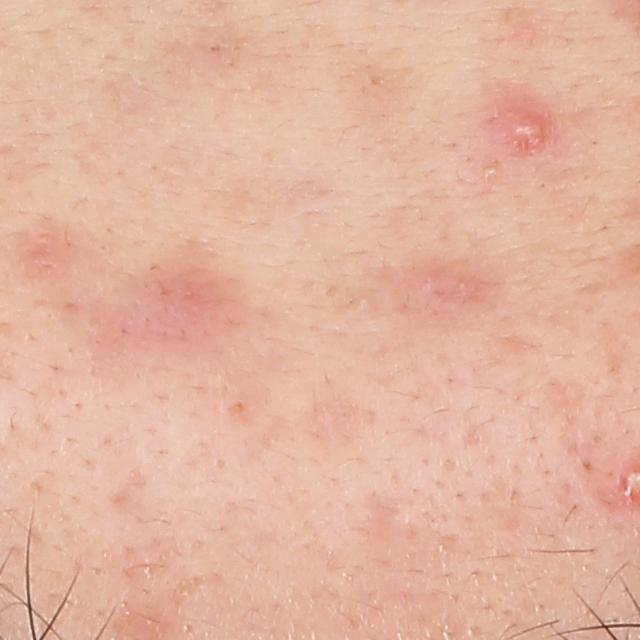pustule: (494, 101, 548, 157)
